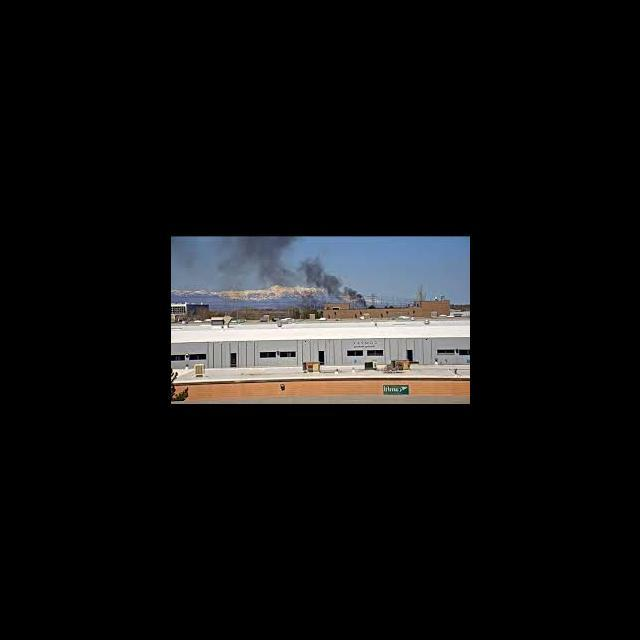Smoke: (170, 236, 356, 302)
